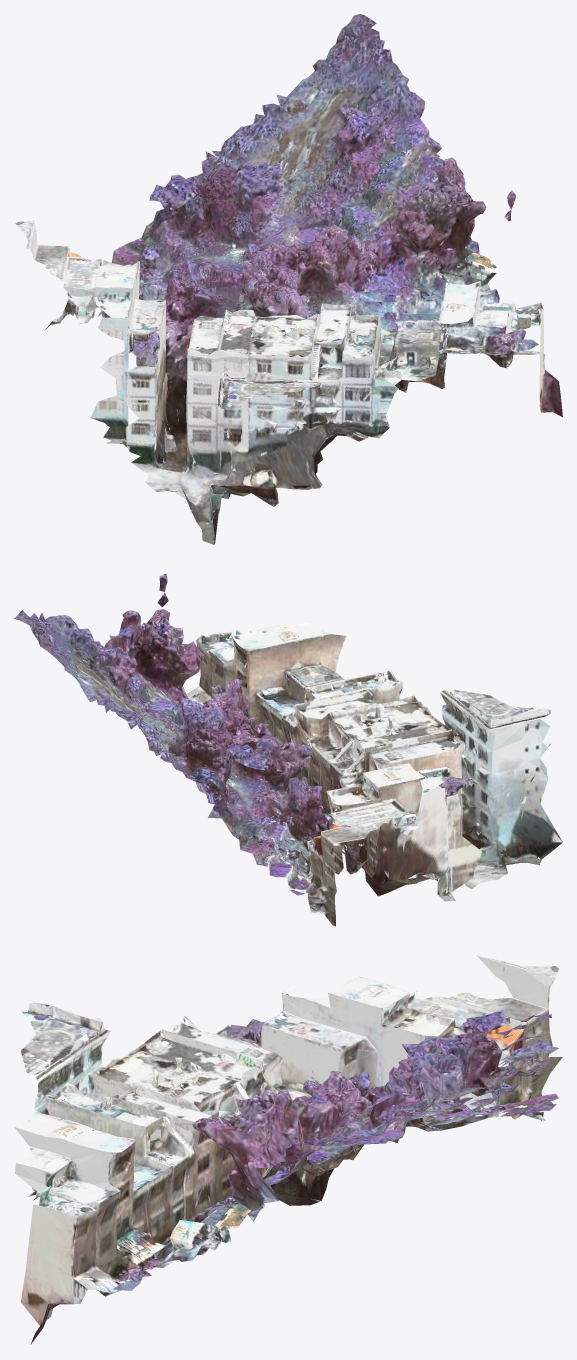
Rendered from Tile_+012_+019_L19_000003.glb.
3 renders of one model, top to bottom at view 1: azimuth 30°, elevation 25°; view 2: azimuth 150°, elevation 25°; view 3: azimuth 270°, elevation 25°, orthographic. The views are drawn at different scales.
Parts seen in each view (by area): view 1: rtc; view 2: rtc; view 3: rtc.
Part boxes in pixels (x1=…): rtc: x1=14, y1=14, x2=562, y2=544; rtc: x1=14, y1=573, x2=562, y2=926; rtc: x1=14, y1=955, x2=562, y2=1344.
Bounding box in the file's own units: 55.18 × 43.67 × 54.98.
Materials: 1 (1 with a texture image).
